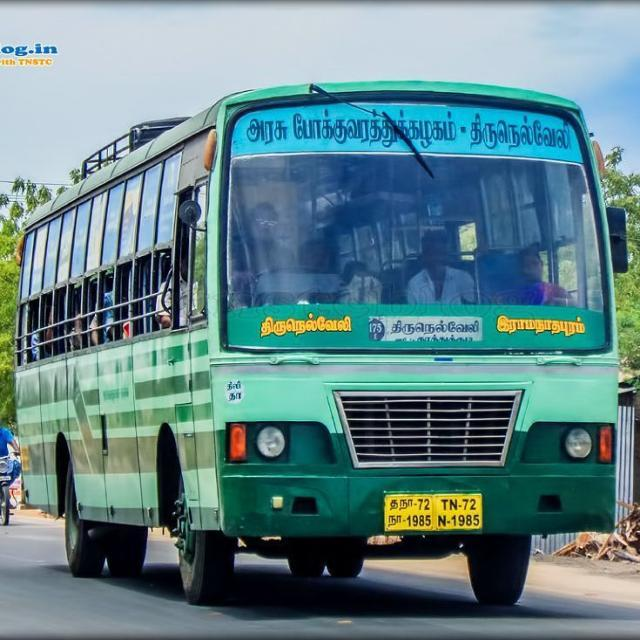Bus: (9, 72, 634, 606)
